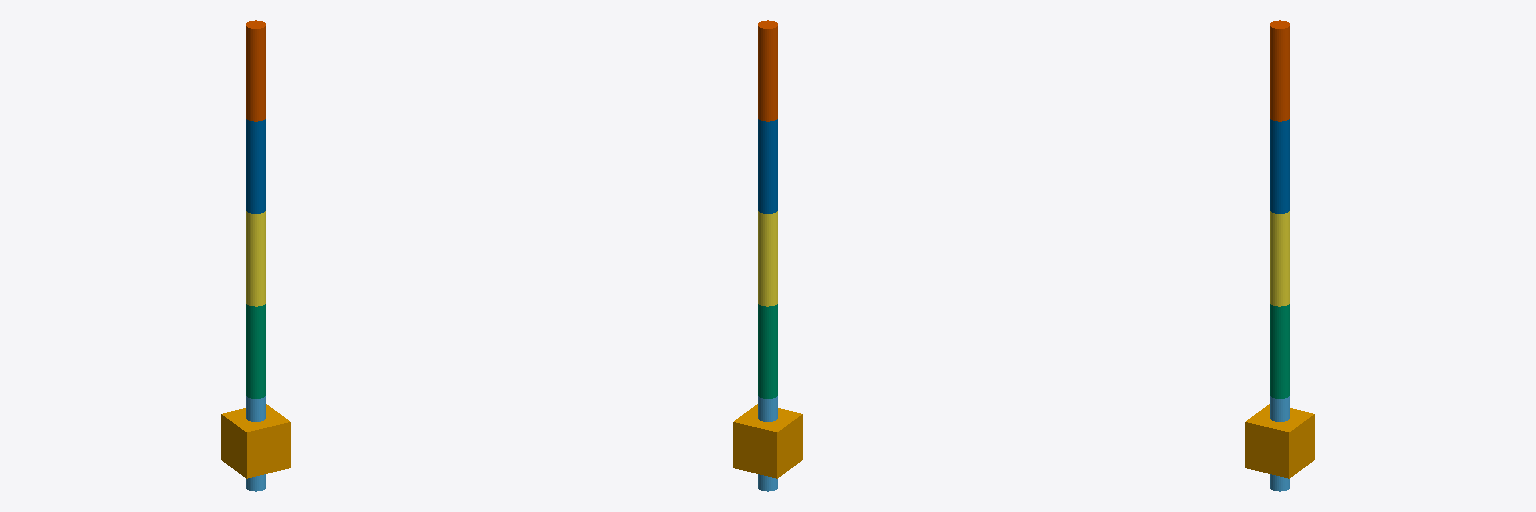
robot.urdf — simple_rope:
<?xml version="1.0" ?>
<!-- =================================================================================== -->
<!-- |    This document was autogenerated by xacro from rope_xacro.xacro               | -->
<!-- |    EDITING THIS FILE BY HAND IS NOT RECOMMENDED                                 | -->
<!-- =================================================================================== -->
<robot name="simple_rope">
  <!-- Base link (fixed to world) -->
  <link name="base_link">
    <inertial>
      <mass value="1.0"/>
      <origin xyz="0 0 0"/>
      <inertia ixx="0.1" ixy="0.0" ixz="0.0" iyy="0.1" iyz="0.0" izz="0.1"/>
    </inertial>
    <visual>
      <geometry>
        <box size="0.1 0.1 0.1"/>
      </geometry>
      <material name="Grey"/>
    </visual>
  </link>
  <!-- Create the first link connected to the base -->
  <link name="rope_link_0">
    <inertial>
      <mass value="0.1"/>
      <origin xyz="0 0 0.1"/>
      <inertia ixx="0.01" ixy="0" ixz="0" iyy="0.01" iyz="0" izz="0.01"/>
    </inertial>
    <visual>
      <geometry>
        <cylinder length="0.2" radius="0.02"/>
      </geometry>
      <material name="Green"/>
    </visual>
  </link>
  <joint name="joint_0" type="prismatic">
    <parent link="base_link"/>
    <child link="rope_link_0"/>
    <origin xyz="0 0 0"/>
    <axis xyz="0 0 1"/>
    <limit effort="50" lower="0" upper="0.5" velocity="1.0"/>
  </joint>
  <!-- Manually add subsequent links -->
  <link name="rope_link_1">
    <inertial>
      <mass value="0.1"/>
      <origin xyz="0 0 0.1"/>
      <inertia ixx="0.01" ixy="0" ixz="0" iyy="0.01" iyz="0" izz="0.01"/>
    </inertial>
    <visual>
      <geometry>
        <cylinder length="0.2" radius="0.02"/>
      </geometry>
      <material name="Green"/>
    </visual>
  </link>
  <joint name="joint_1" type="prismatic">
    <parent link="rope_link_0"/>
    <child link="rope_link_1"/>
    <origin xyz="0 0 0.2"/>
    <axis xyz="0 0 1"/>
    <limit effort="50" lower="0" upper="0.5" velocity="1.0"/>
  </joint>
  <link name="rope_link_2">
    <inertial>
      <mass value="0.1"/>
      <origin xyz="0 0 0.1"/>
      <inertia ixx="0.01" ixy="0" ixz="0" iyy="0.01" iyz="0" izz="0.01"/>
    </inertial>
    <visual>
      <geometry>
        <cylinder length="0.2" radius="0.02"/>
      </geometry>
      <material name="Green"/>
    </visual>
  </link>
  <joint name="joint_2" type="prismatic">
    <parent link="rope_link_1"/>
    <child link="rope_link_2"/>
    <origin xyz="0 0 0.2"/>
    <axis xyz="0 0 1"/>
    <limit effort="50" lower="0" upper="0.5" velocity="1.0"/>
  </joint>
  <link name="rope_link_3">
    <inertial>
      <mass value="0.1"/>
      <origin xyz="0 0 0.1"/>
      <inertia ixx="0.01" ixy="0" ixz="0" iyy="0.01" iyz="0" izz="0.01"/>
    </inertial>
    <visual>
      <geometry>
        <cylinder length="0.2" radius="0.02"/>
      </geometry>
      <material name="Green"/>
    </visual>
  </link>
  <joint name="joint_3" type="prismatic">
    <parent link="rope_link_2"/>
    <child link="rope_link_3"/>
    <origin xyz="0 0 0.2"/>
    <axis xyz="0 0 1"/>
    <limit effort="50" lower="0" upper="0.5" velocity="1.0"/>
  </joint>
  <link name="rope_link_4">
    <inertial>
      <mass value="0.1"/>
      <origin xyz="0 0 0.1"/>
      <inertia ixx="0.01" ixy="0" ixz="0" iyy="0.01" iyz="0" izz="0.01"/>
    </inertial>
    <visual>
      <geometry>
        <cylinder length="0.2" radius="0.02"/>
      </geometry>
      <material name="Green"/>
    </visual>
  </link>
  <joint name="joint_4" type="prismatic">
    <parent link="rope_link_3"/>
    <child link="rope_link_4"/>
    <origin xyz="0 0 0.2"/>
    <axis xyz="0 0 1"/>
    <limit effort="50" lower="0" upper="0.5" velocity="1.0"/>
  </joint>
</robot>

--- Facts derived from the render (not from the file) ---
Views: 3 orthographic renders of the robot side by side, from view 1: azimuth 30°, elevation 25°; view 2: azimuth 150°, elevation 25°; view 3: azimuth 330°, elevation 25°.
Model simple_rope with 6 links and 5 joints (5 prismatic), rooted at base_link, posed all joints at 0.
Visible links, largest first — view 1: base_link, rope_link_4, rope_link_2, rope_link_1, rope_link_3, rope_link_0; view 2: base_link, rope_link_4, rope_link_2, rope_link_1, rope_link_3, rope_link_0; view 3: base_link, rope_link_4, rope_link_2, rope_link_1, rope_link_3, rope_link_0.
Boxes of the visible links, x1,y1,x2,y2 form: base_link: (221,404,290,478); rope_link_4: (246,20,265,121); rope_link_2: (246,211,265,306); rope_link_1: (246,304,265,398); rope_link_3: (246,119,265,213); rope_link_0: (246,396,265,491); base_link: (733,404,802,478); rope_link_4: (758,20,777,121); rope_link_2: (758,211,777,306); rope_link_1: (758,304,777,398); rope_link_3: (758,119,777,213); rope_link_0: (758,396,777,491); base_link: (1245,404,1314,478); rope_link_4: (1270,20,1289,121); rope_link_2: (1270,211,1289,306); rope_link_1: (1270,304,1289,398); rope_link_3: (1270,119,1289,213); rope_link_0: (1270,396,1289,491).
Size in the robot's own frame: 0.1 by 0.1 by 1 metres.
Geometry: primitives only (box / cylinder / sphere), no mesh files.